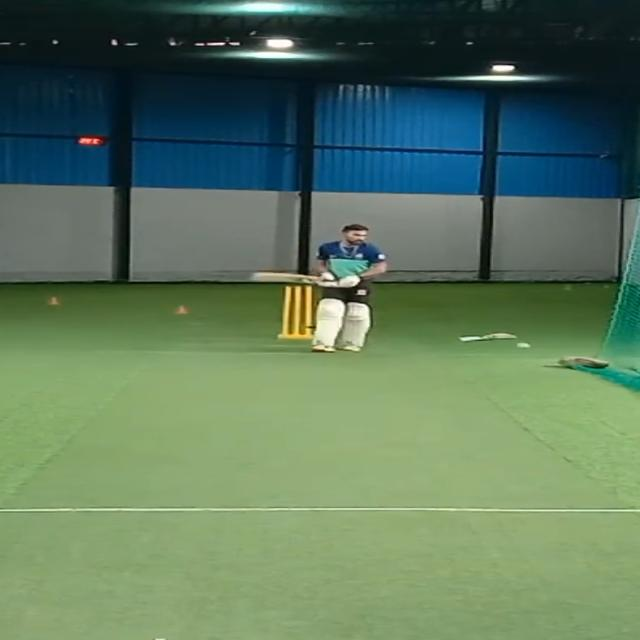ball: (516, 342, 532, 350)
stump: (276, 284, 313, 340)
